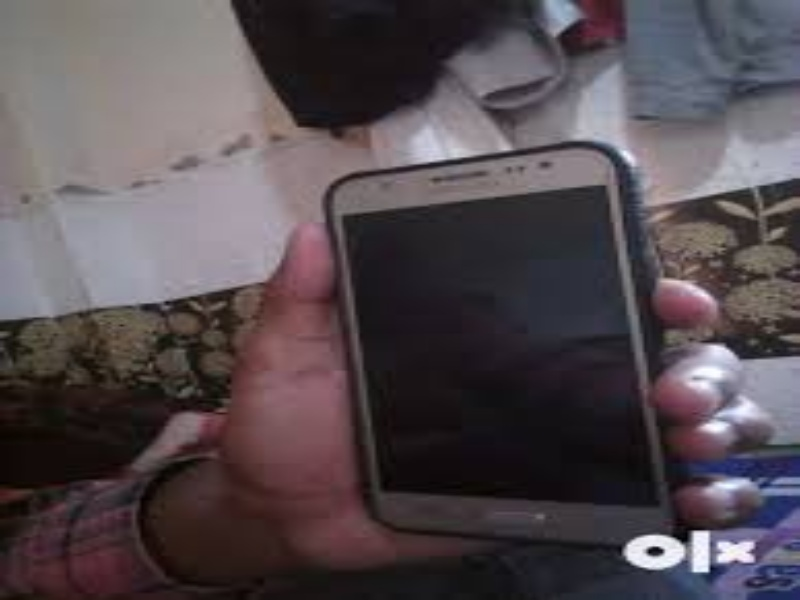mobile: (313, 148, 696, 569)
